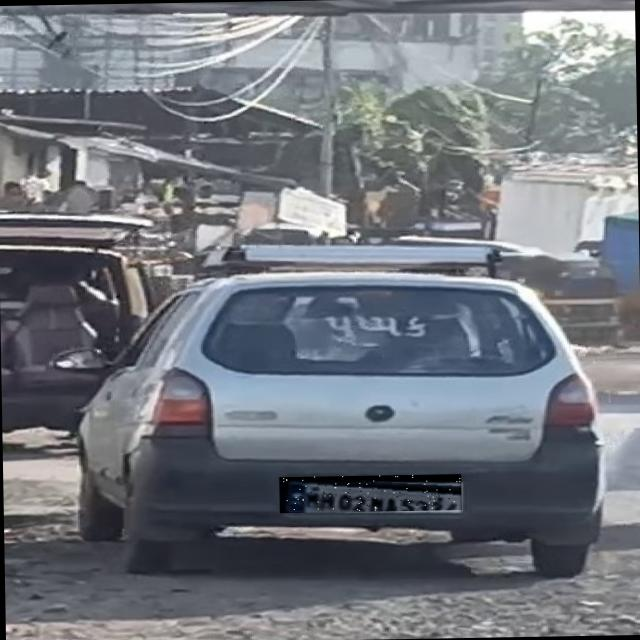Plate: (280, 475, 463, 514)
